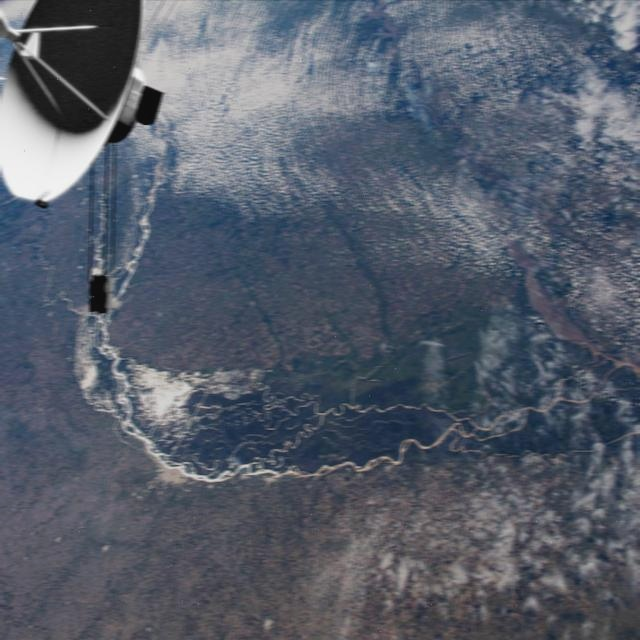satellite: (0, 0, 164, 330)
